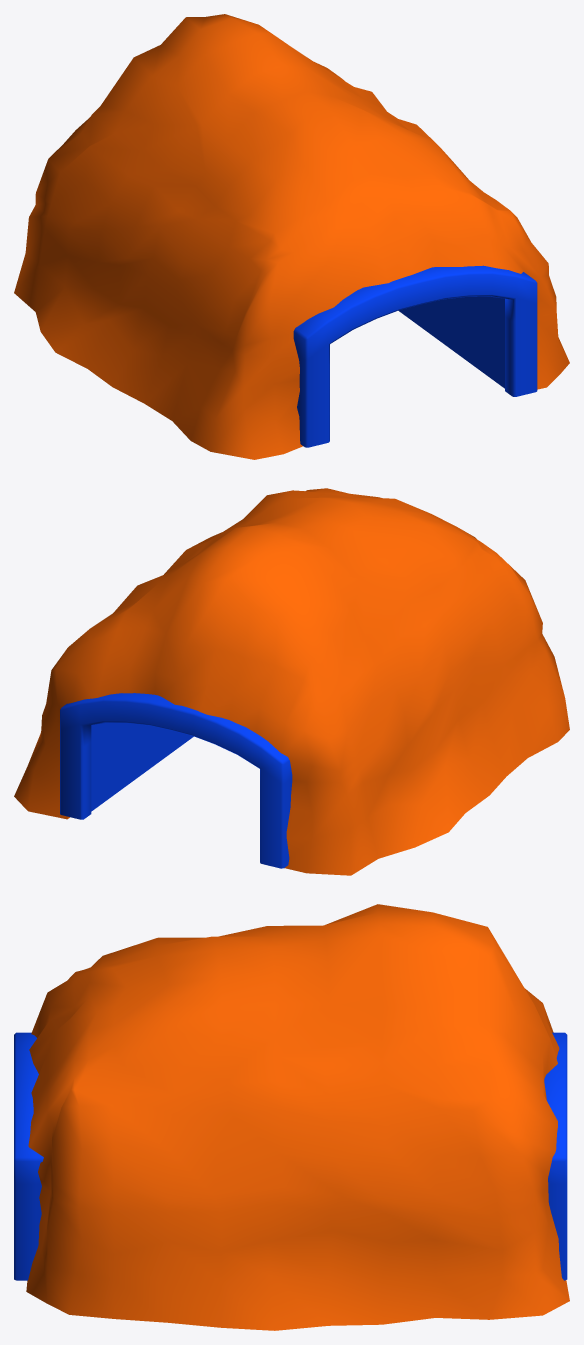
Rendered from TrainTunnel.fbx.
3 views of the same model, one above another, from view 1: azimuth 30°, elevation 25°; view 2: azimuth 150°, elevation 25°; view 3: azimuth 270°, elevation 25° (orthographic). The views are drawn at different scales.
Visible parts, largest first — view 1: Tunnel.001, main tunnel; view 2: Tunnel.001, main tunnel; view 3: Tunnel.001, main tunnel.
Boxes of the visible parts, box(x1,y1,x2,y2) form: Tunnel.001: box(14, 14, 569, 459); main tunnel: box(293, 265, 537, 447); Tunnel.001: box(14, 488, 569, 875); main tunnel: box(60, 693, 292, 868); Tunnel.001: box(26, 904, 569, 1330); main tunnel: box(14, 1032, 567, 1280).
Bounding box in the file's own units: 3614 × 2294 × 3882.
